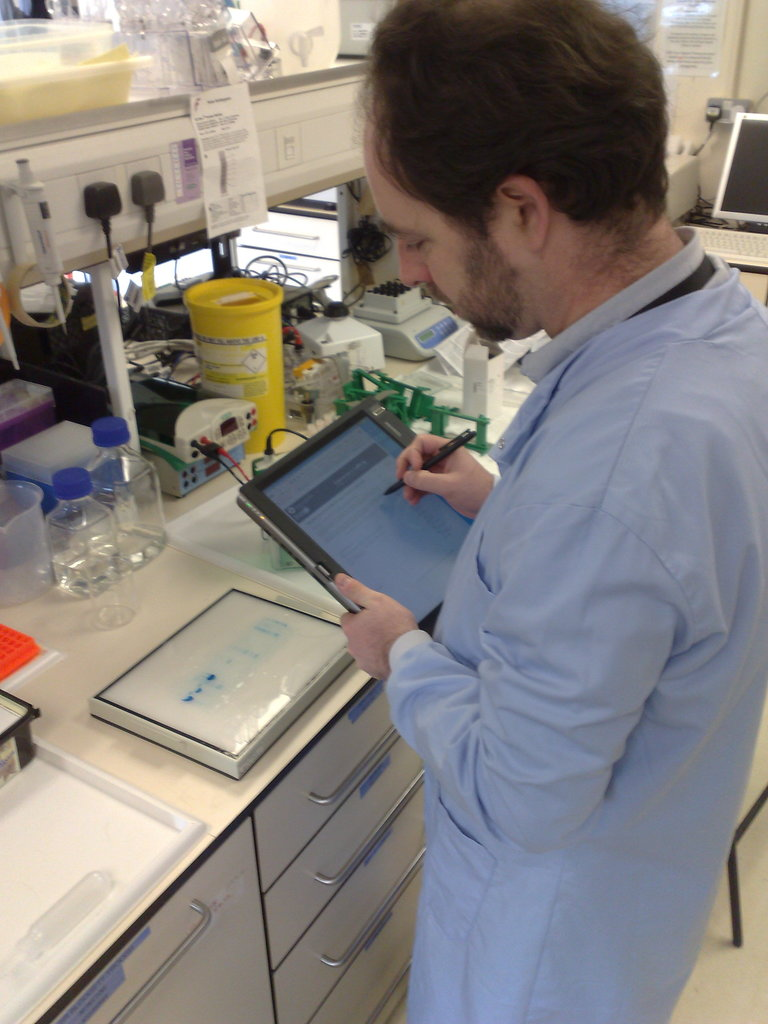Person: (334, 0, 768, 1024)
